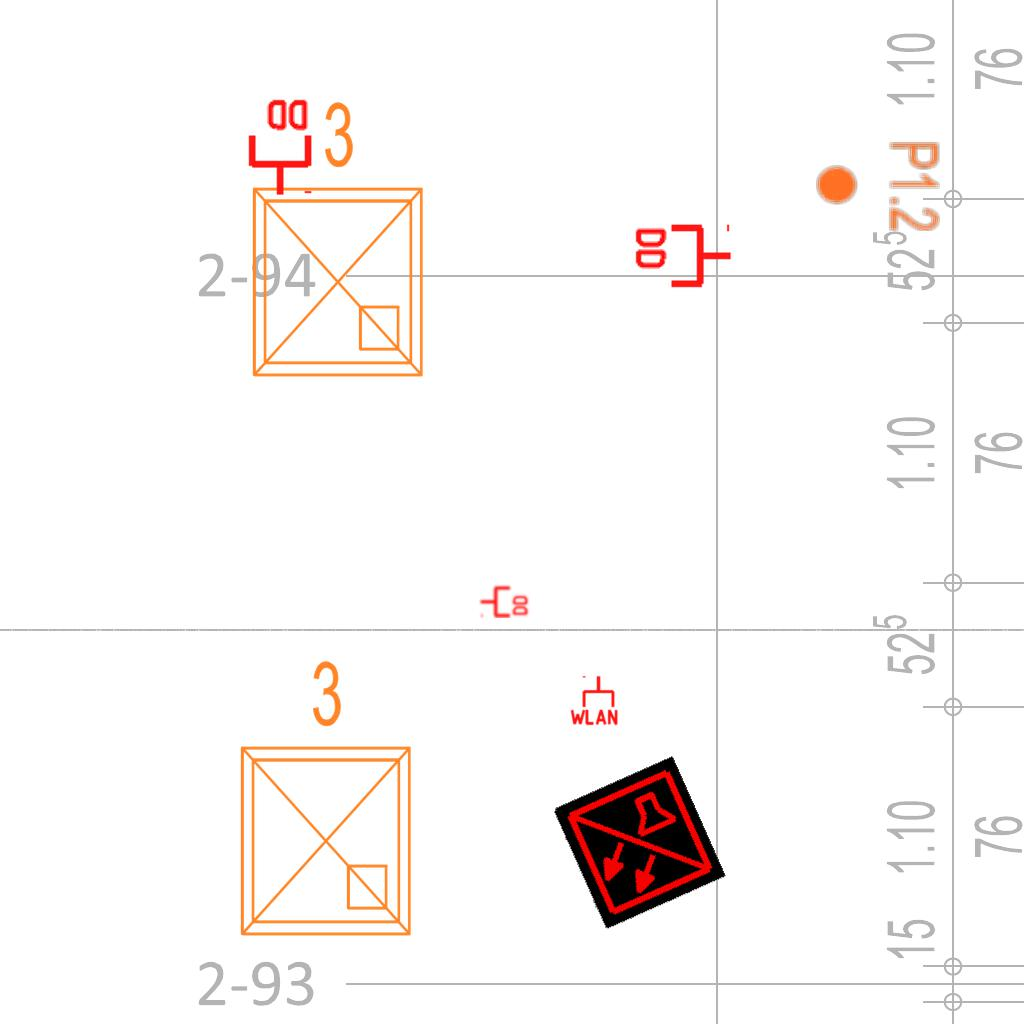Datenanschluss_zweifach: (631, 223, 734, 292), (244, 95, 313, 198), (479, 584, 530, 618)
Downlight_LED_Einbauleuchten_Flur: (814, 140, 942, 233)
Einbaudownlights_LED_Konferenzraeume: (218, 650, 426, 950), (230, 91, 438, 391)
OKW_Multisensormelder_(Kombination_optischer_Rauch-Kahlenmonoxid_Waerme-Melder): (551, 755, 727, 931)
WLAN: (568, 674, 620, 726)
